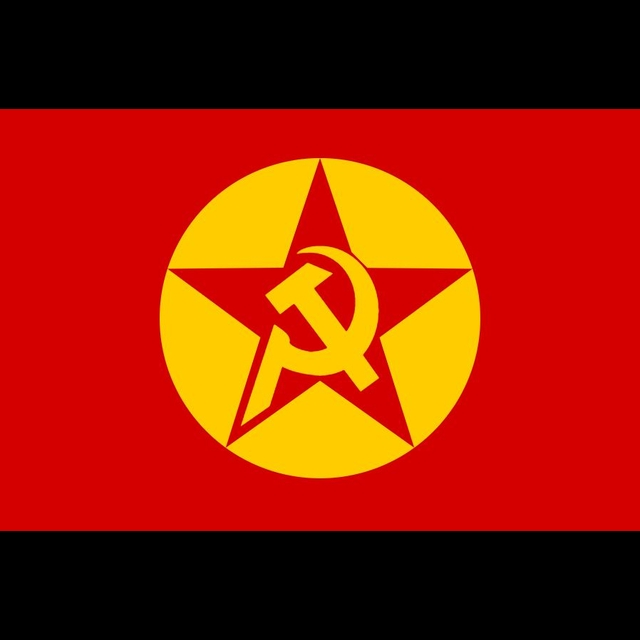DHKPC: (134, 142, 521, 496)
